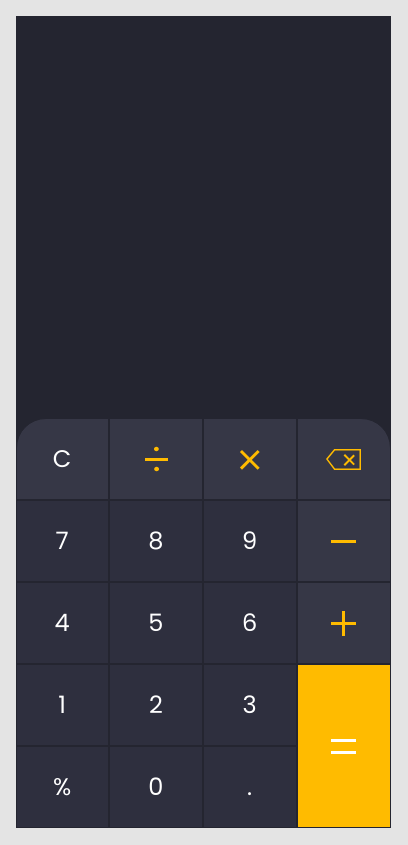
Test: Calculator renders correctly the result › 2 + 3 - 5 = 0
Click the button with test id "button-number-2".
click(156, 705)  # box [109,664,203,746]
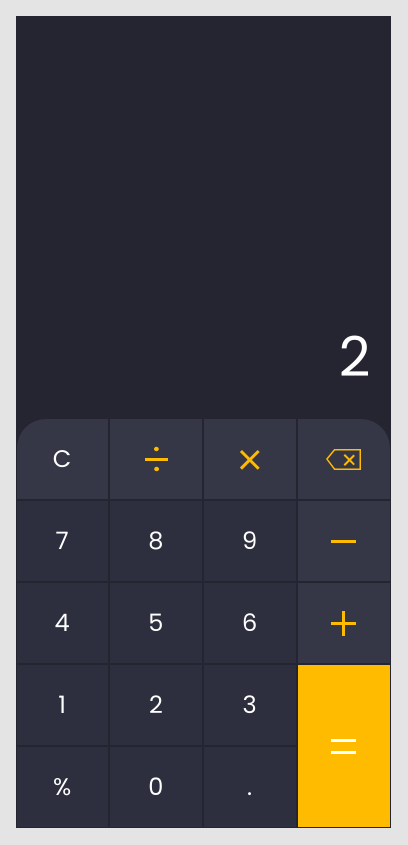
Click the button with test id "button-operator-plus".
click(344, 623)  # box [297,582,391,664]
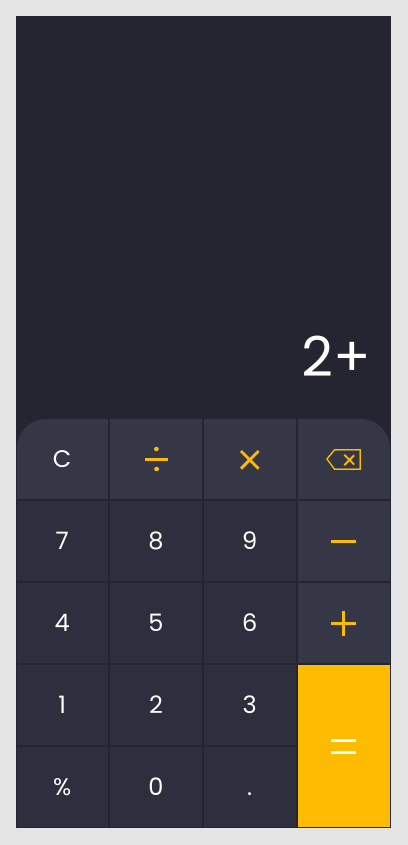
Click the button with test id "button-number-3".
click(250, 705)  # box [203,664,297,746]
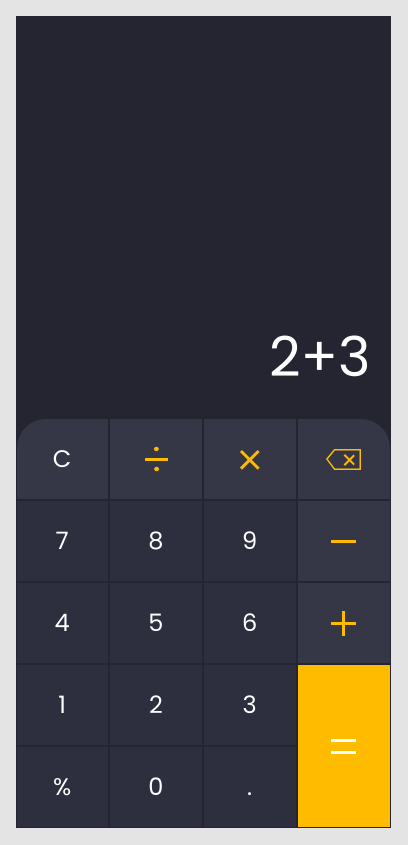
Click the button with test id "button-operator-minus".
click(344, 541)  # box [297,500,391,582]
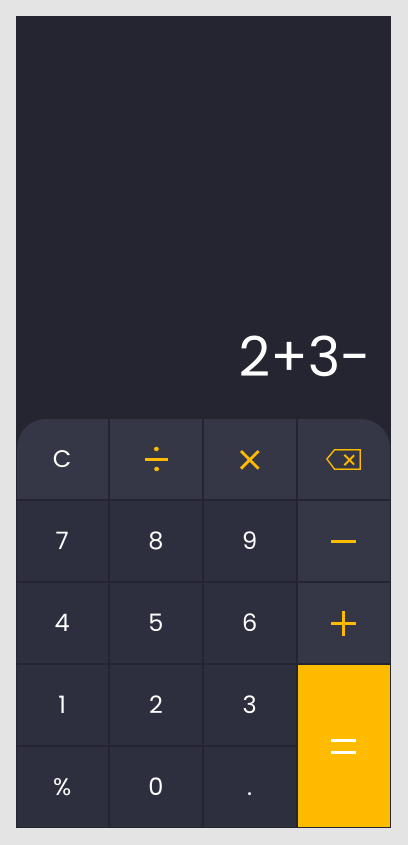
Click the button with test id "button-number-5".
click(156, 623)  # box [109,582,203,664]
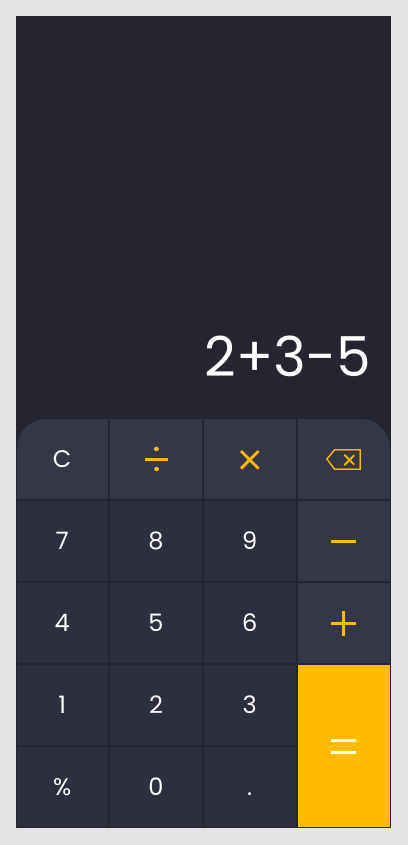
Click the button with test id "button-equals".
click(344, 746)  # box [297,664,391,828]
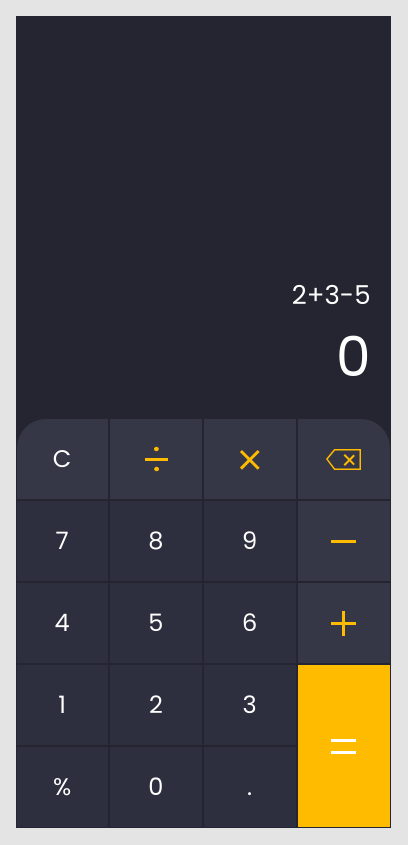
Expected: the text with test id "display__result" reads "0", [336,318,370,395]
